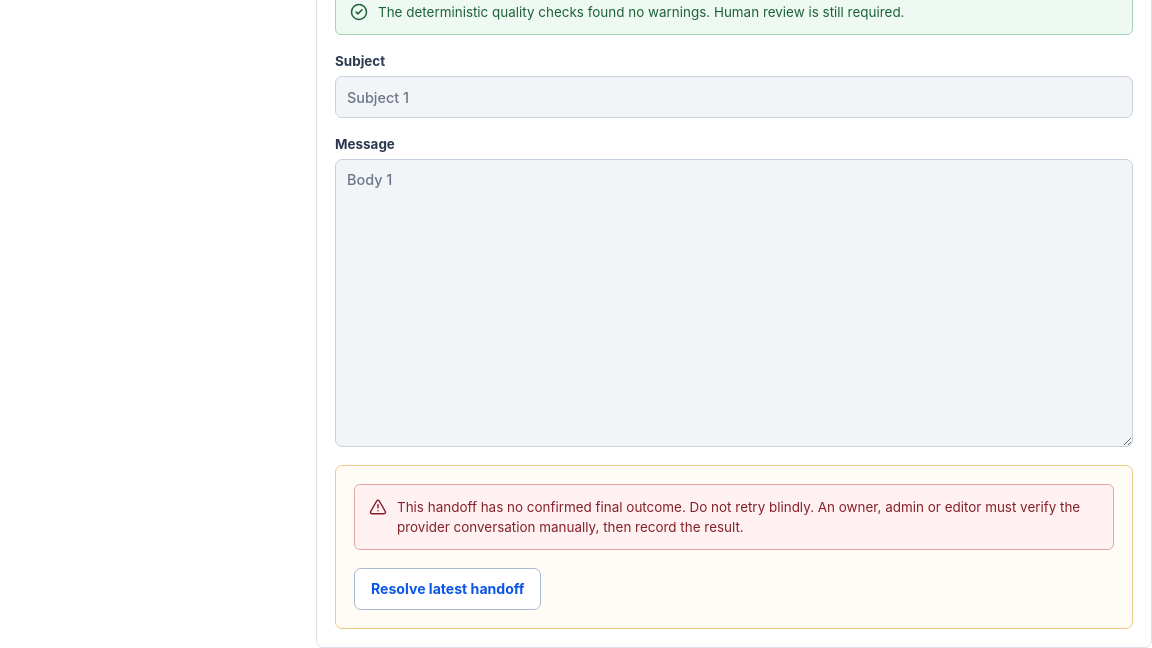
review workflow recovery › keeps a revoked handoff outcome-only with no assisted provider controls
(page scrolled)
Click the button "Resolve latest handoff".
click(448, 589)  # box left=354, top=568, right=542, bottom=610
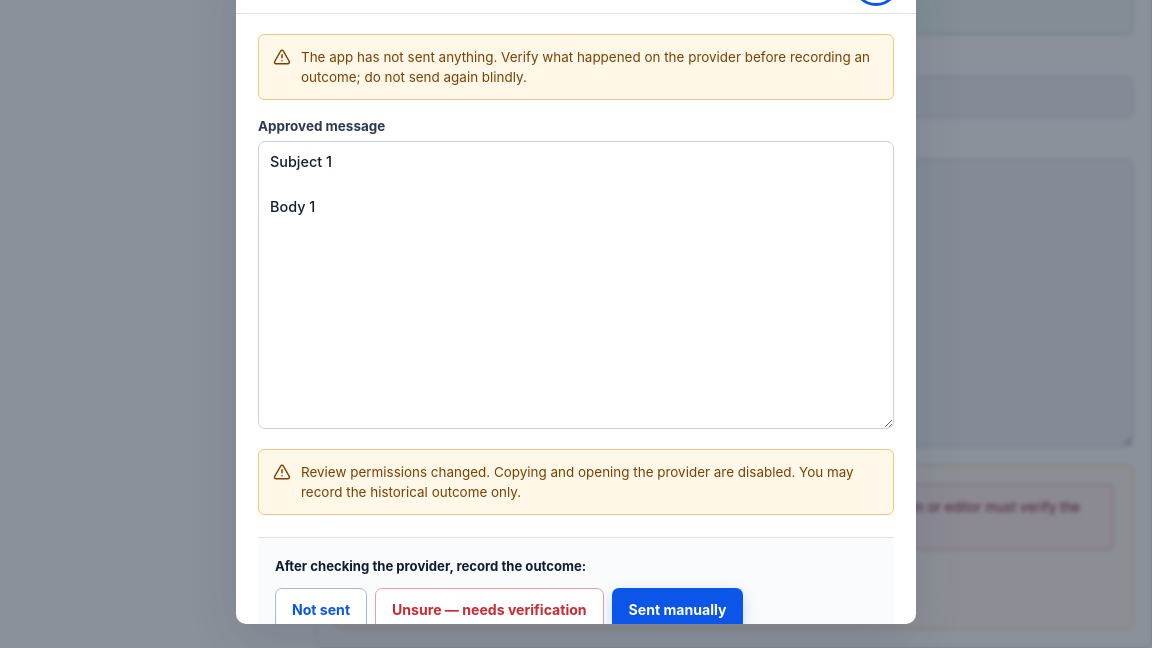
Now the text "permissions changed" is shown, box left=301, top=464, right=854, bottom=500
Now the button "Sent manually" is enabled, box left=612, top=588, right=743, bottom=624
